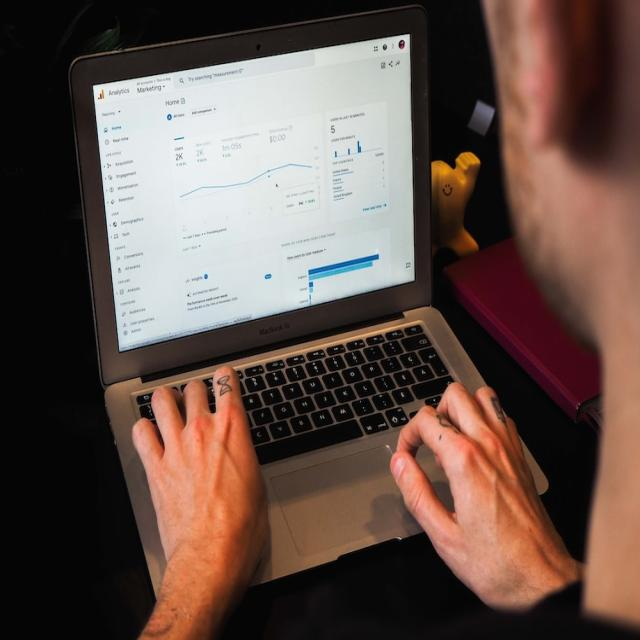keyboard-with-hands: (106, 311, 552, 617)
